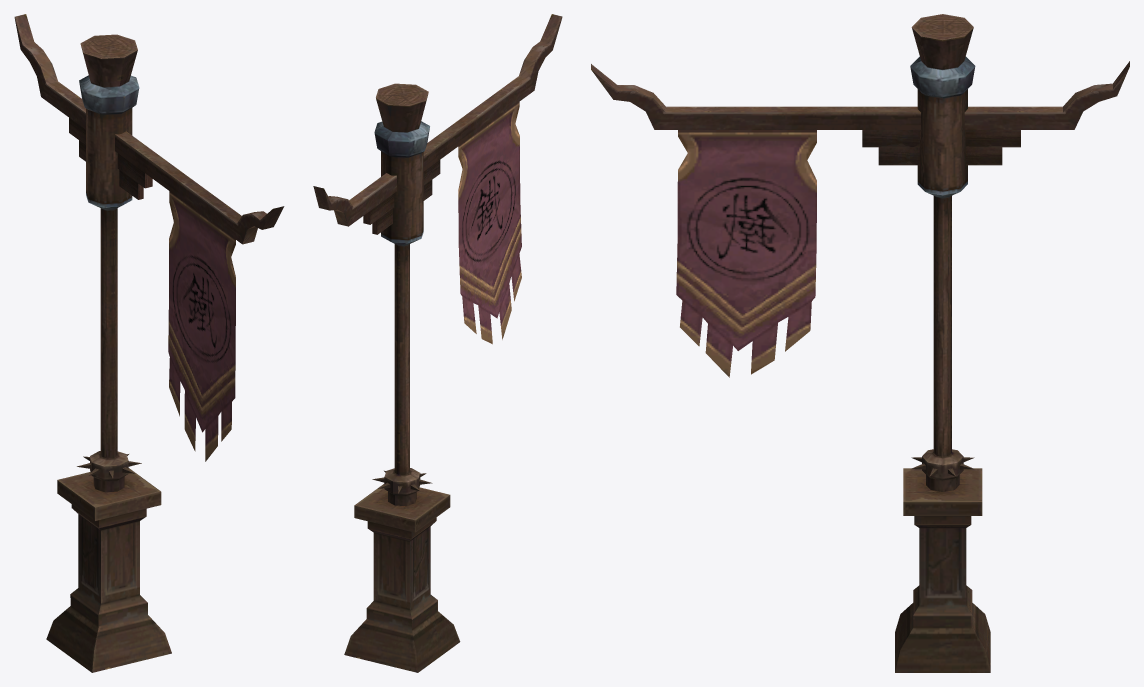
The model's file is tiejiang3.FBX.
3 renders of one model, left to right at view 1: azimuth 30°, elevation 25°; view 2: azimuth 150°, elevation 25°; view 3: azimuth 270°, elevation 25°, orthographic. The views are drawn at different scales.
Visible parts, largest first — view 1: Mesh_0044; view 2: Mesh_0044; view 3: Mesh_0044.
Boxes of the visible parts, x1,y1,x2,y2 form: Mesh_0044: [14, 14, 284, 672]; Mesh_0044: [313, 14, 562, 672]; Mesh_0044: [591, 14, 1129, 672].
Bounding box in the file's own units: 0.2212 × 1.58 × 1.24.
